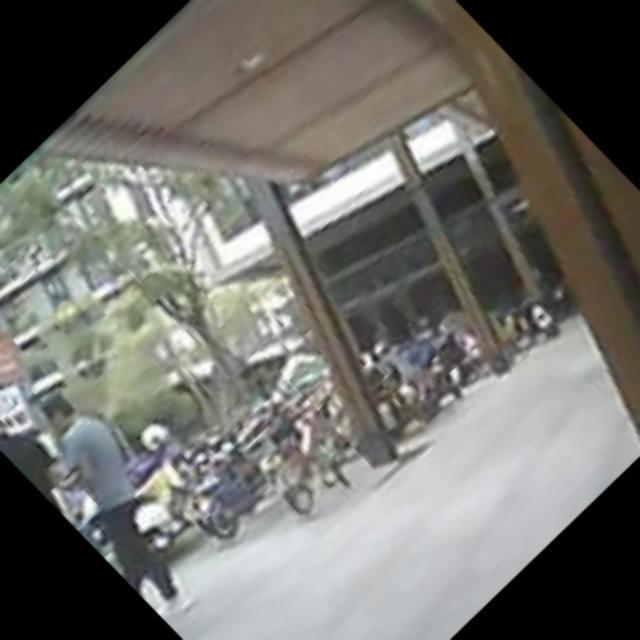person: (4, 386, 234, 620), (0, 387, 196, 620)
